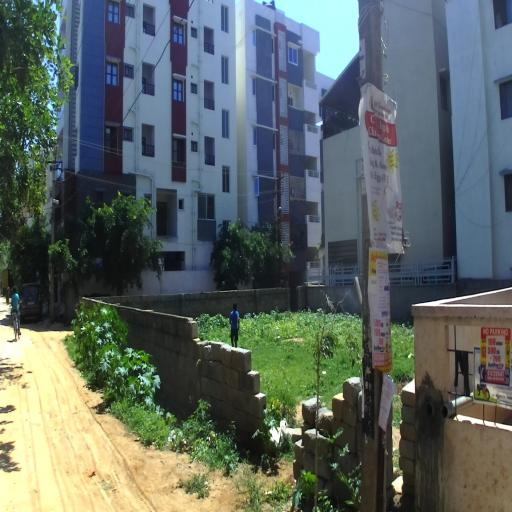street_light_0: (51, 199, 59, 223)
